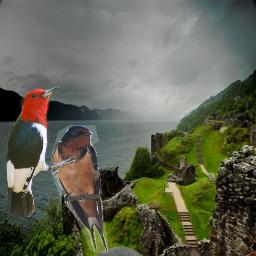Swallow: (51, 125, 108, 253)
Woodpecker: (5, 86, 76, 217)
